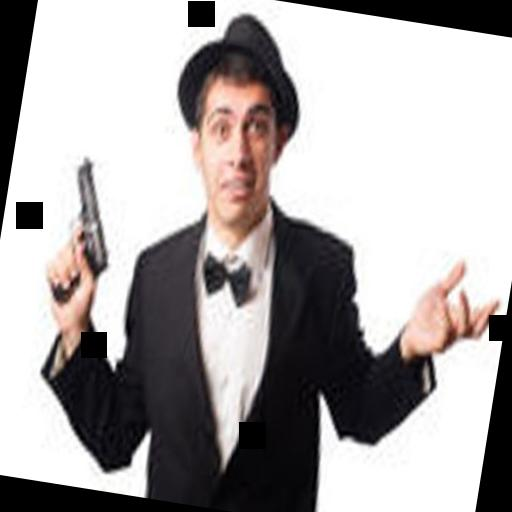Handgun: (31, 145, 122, 311)
